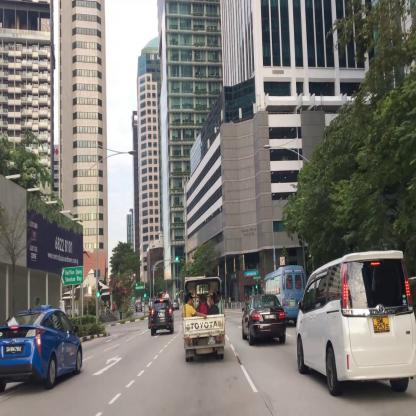green_traffic_light: (175, 253, 184, 262)
